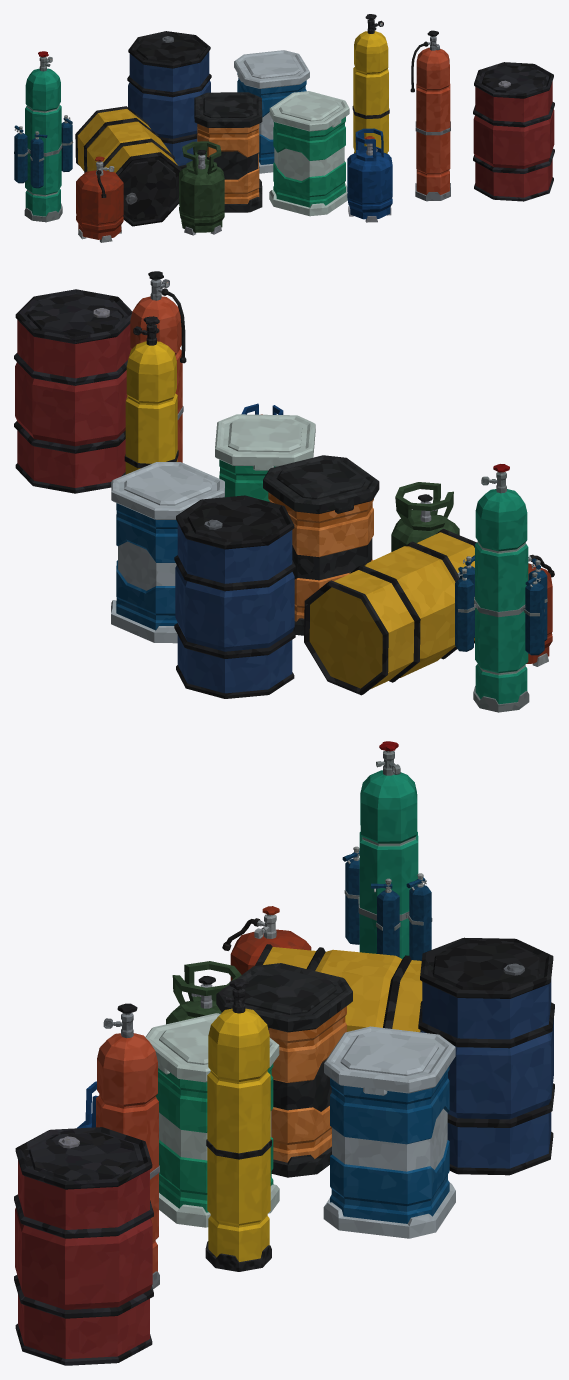
Rendered from low_poly_industrial_pack.glb.
The picture shows the model from 3 angles, top to bottom: view 1: azimuth 30°, elevation 25°; view 2: azimuth 150°, elevation 25°; view 3: azimuth 270°, elevation 25°; orthographic projection. The views are drawn at different scales.
Visible parts, largest first — view 1: barrel1, container2, barrel3, barrel2, tall cylinder2, container1, tall cylinder1, container3, tall cylinder3, small cylinder2, small cylinder3, small cylinder1; view 2: barrel3, barrel1, barrel2, tall cylinder2, container3, container1, tall cylinder3, container2, tall cylinder1, small cylinder2, small cylinder1; view 3: barrel1, barrel3, container3, tall cylinder3, container1, tall cylinder2, container2, tall cylinder1, barrel2, small cylinder1, small cylinder2.
Boxes of the visible parts, left/top/right/bottom form: barrel1: left=473, top=62, right=554, bottom=201; container2: left=269, top=91, right=349, bottom=216; barrel3: left=127, top=31, right=211, bottom=168; barrel2: left=75, top=106, right=181, bottom=226; tall cylinder2: left=14, top=51, right=73, bottom=222; container1: left=194, top=92, right=262, bottom=212; tall cylinder1: left=410, top=30, right=450, bottom=201; container3: left=234, top=50, right=309, bottom=173; tall cylinder3: left=352, top=14, right=389, bottom=153; small cylinder2: left=179, top=141, right=224, bottom=235; small cylinder3: left=347, top=128, right=392, bottom=222; small cylinder1: left=76, top=156, right=123, bottom=242; barrel3: left=174, top=495, right=295, bottom=698; barrel1: left=14, top=289, right=132, bottom=493; barrel2: left=304, top=529, right=476, bottom=695; tall cylinder2: left=455, top=464, right=547, bottom=712; container3: left=111, top=462, right=224, bottom=643; container1: left=263, top=455, right=379, bottom=635; tall cylinder3: left=124, top=316, right=178, bottom=474; container2: left=215, top=414, right=315, bottom=501; tall cylinder1: left=130, top=271, right=186, bottom=462; small cylinder2: left=391, top=482, right=459, bottom=551; small cylinder1: left=526, top=554, right=554, bottom=666; barrel1: left=14, top=1127, right=153, bottom=1365; barrel3: left=418, top=937, right=554, bottom=1175; container3: left=323, top=1026, right=455, bottom=1238; tall cylinder3: left=205, top=979, right=271, bottom=1271; container1: left=216, top=963, right=352, bottom=1177; tall cylinder2: left=342, top=741, right=432, bottom=960; container2: left=145, top=1013, right=279, bottom=1227; tall cylinder1: left=96, top=1003, right=159, bottom=1289; barrel2: left=255, top=944, right=422, bottom=1032; small cylinder1: left=222, top=906, right=311, bottom=980; small cylinder2: left=166, top=961, right=241, bottom=1024.
Bounding box in the file's own units: 21.4 × 7.41 × 13.16.
53 materials, 53 textured.
